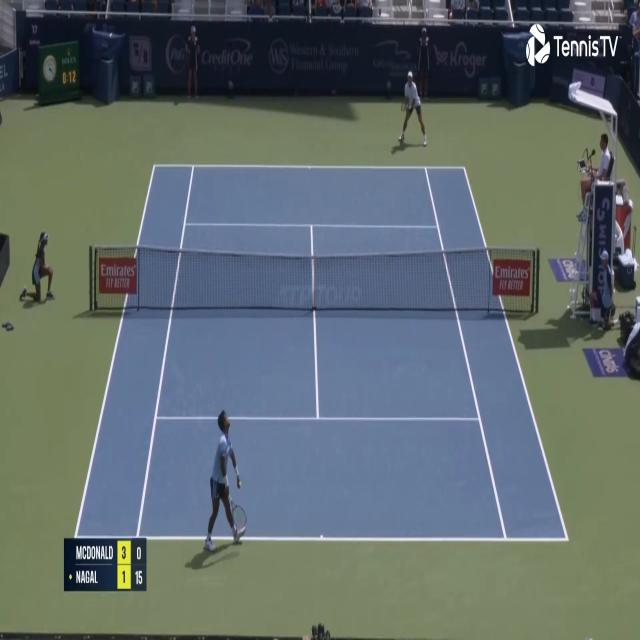tennis-player: (200, 407, 249, 558), (397, 66, 428, 148)
